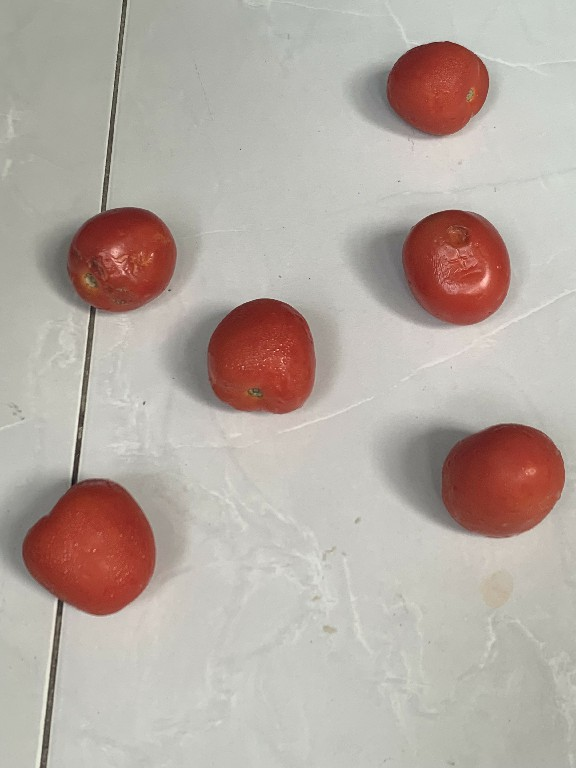NG: (396, 204, 513, 329), (58, 205, 180, 312)
OK: (17, 475, 166, 621), (437, 419, 566, 543), (199, 295, 318, 427), (380, 35, 493, 139)
